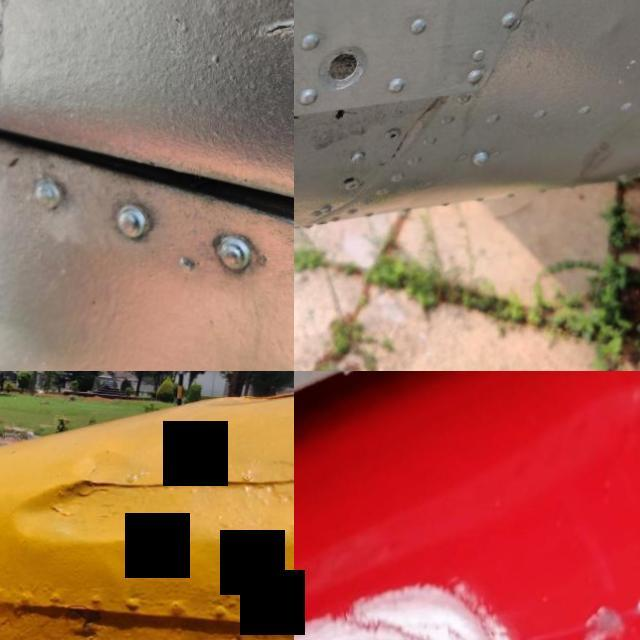Crack: (194, 0, 294, 233)
Dent: (0, 435, 187, 567)
Missing_Fastener: (294, 13, 397, 119)
